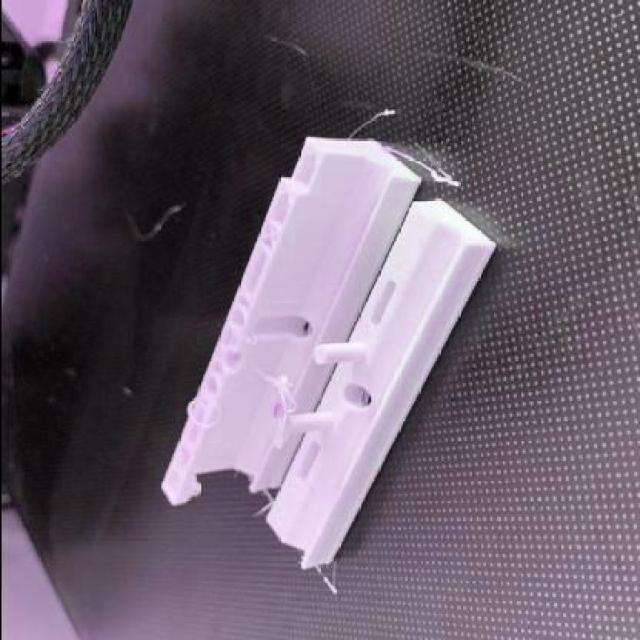Spaghetti: (270, 377, 293, 448), (183, 386, 220, 429), (248, 488, 274, 518)
